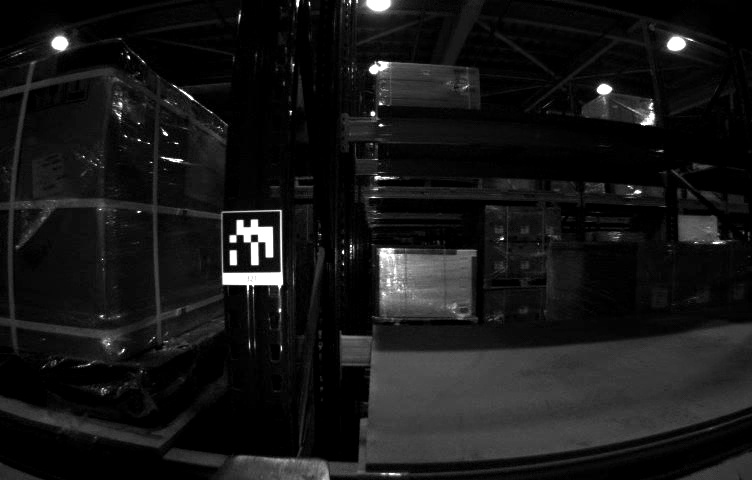True Barcode: (31, 151, 62, 199)
